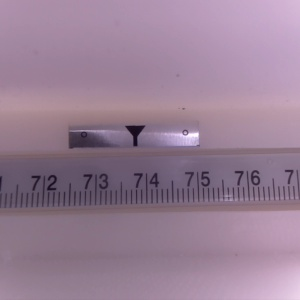2: (46, 175, 57, 191)
3: (98, 173, 108, 189)
4: (149, 172, 159, 188)
5: (200, 171, 209, 187)
6: (250, 170, 261, 186)
7: (29, 175, 41, 191), (82, 174, 92, 190), (183, 171, 193, 187), (284, 169, 294, 185), (233, 171, 243, 186), (133, 173, 142, 189)
finger: (123, 125, 146, 148)
